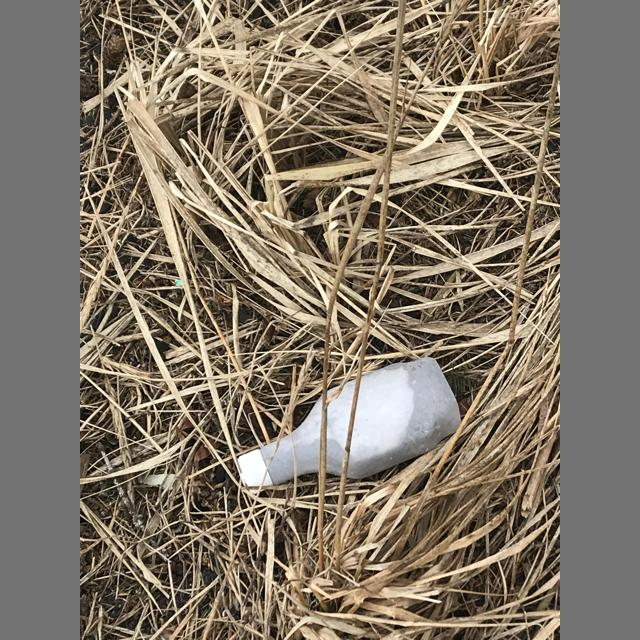litter: (260, 357, 462, 485), (237, 449, 273, 495)
